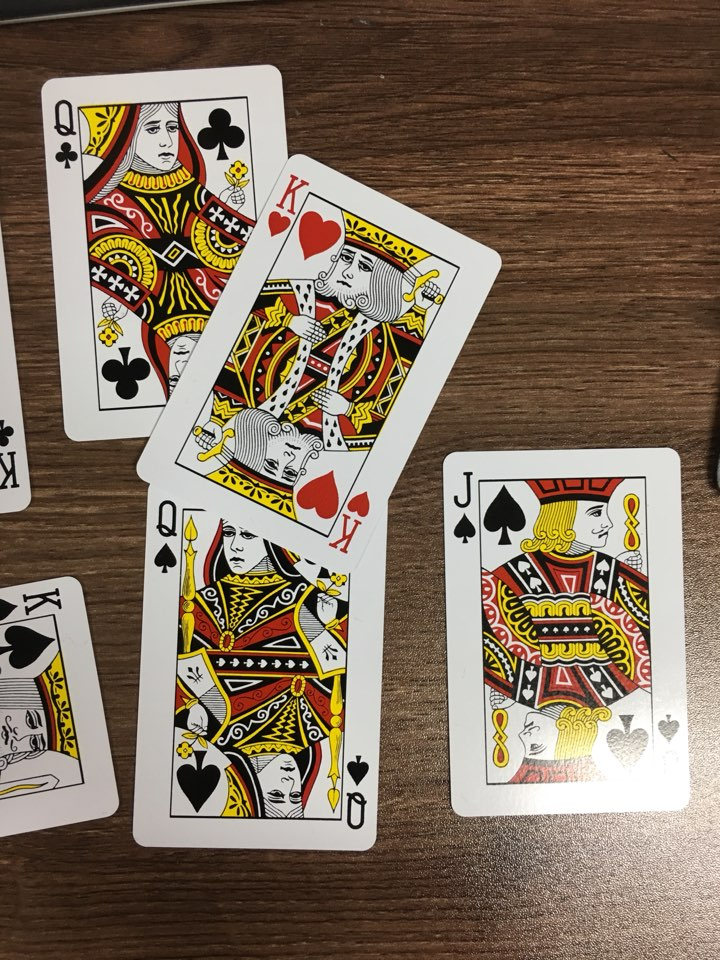jack: (412, 426, 718, 838)
king: (128, 140, 512, 594), (1, 563, 135, 885), (1, 145, 61, 533)
queen: (110, 448, 394, 880), (29, 49, 316, 460)
